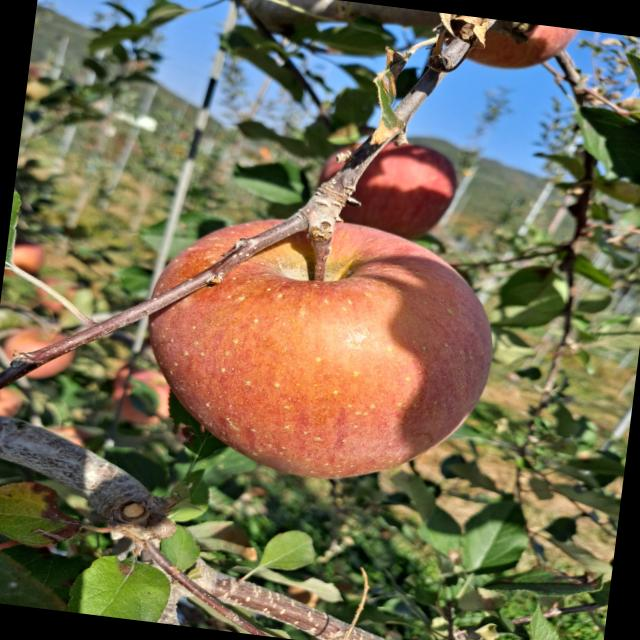fresh: (128, 194, 518, 508)
